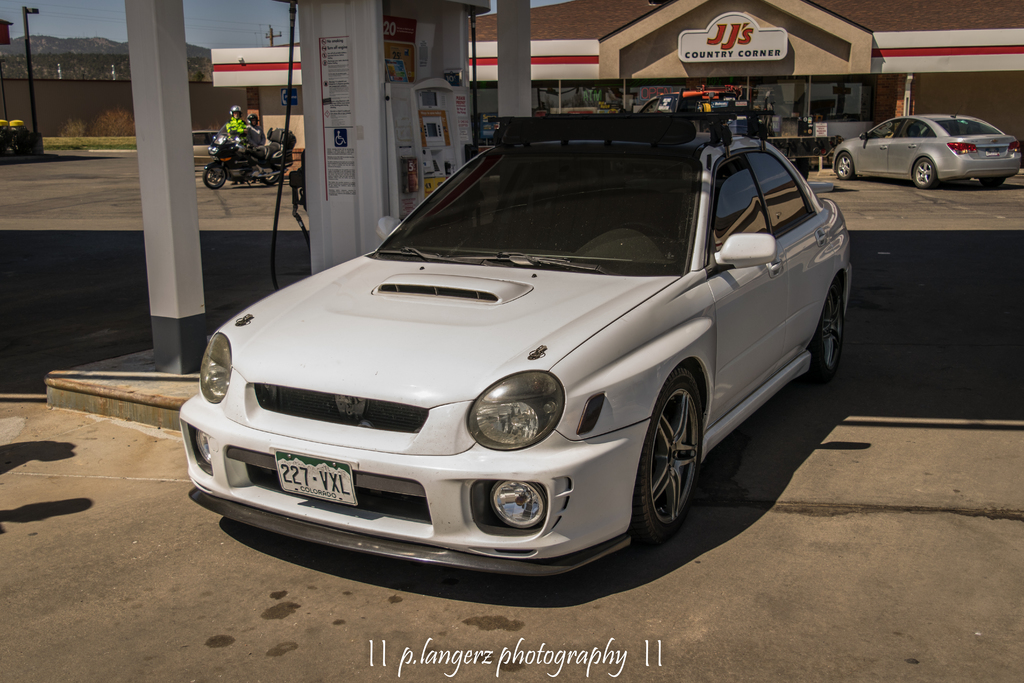Car: (178, 93, 851, 576), (833, 105, 1023, 188)
